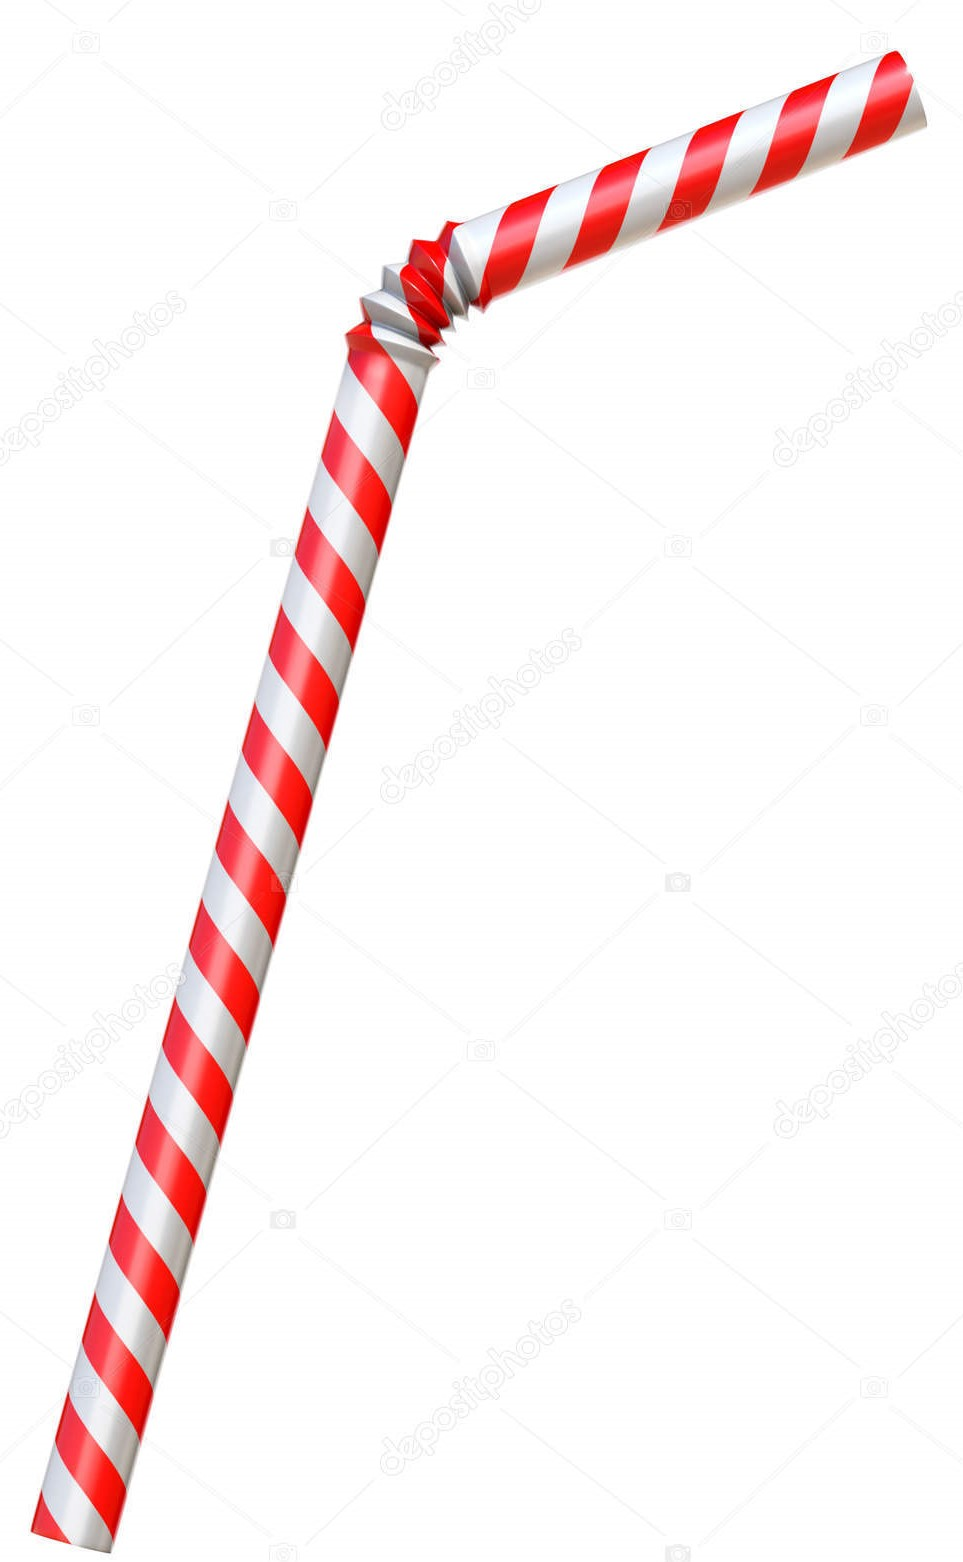Drinking Straw: (22, 47, 936, 1561)
